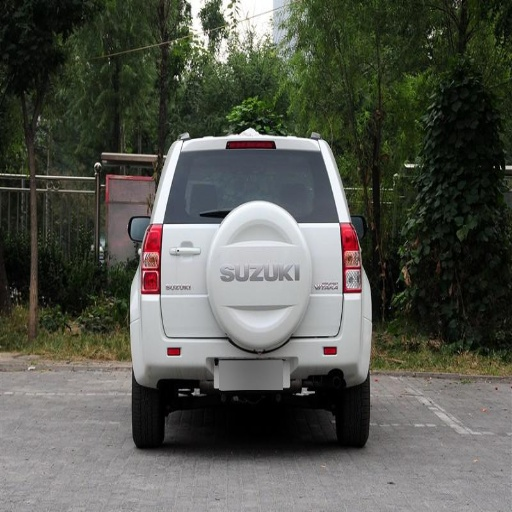back_bumper: (131, 290, 368, 390)
tailgate: (221, 248, 313, 348)
trunk: (144, 210, 342, 350)
